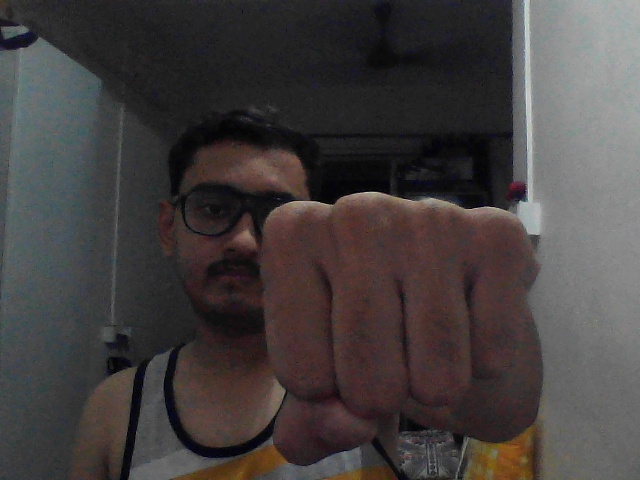Yes: (236, 172, 557, 473)
